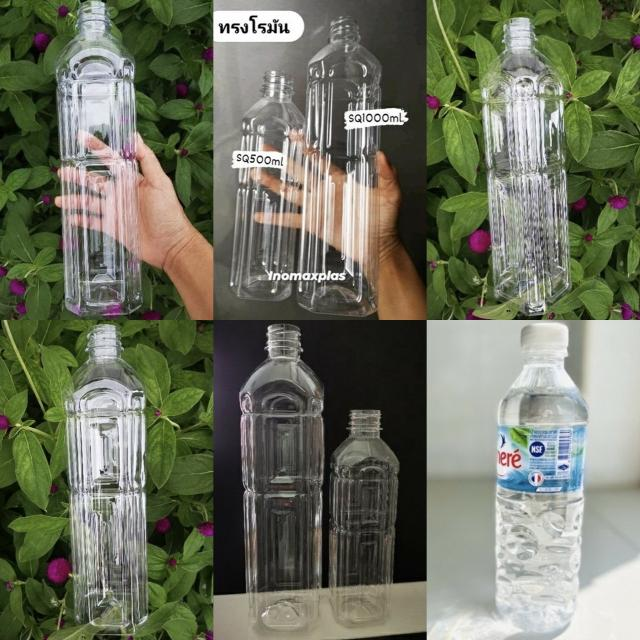plastik: (280, 16, 408, 316), (495, 323, 588, 632), (56, 1, 142, 316), (481, 18, 570, 315), (240, 324, 324, 629), (65, 324, 148, 632), (230, 70, 305, 301), (329, 410, 399, 625)
